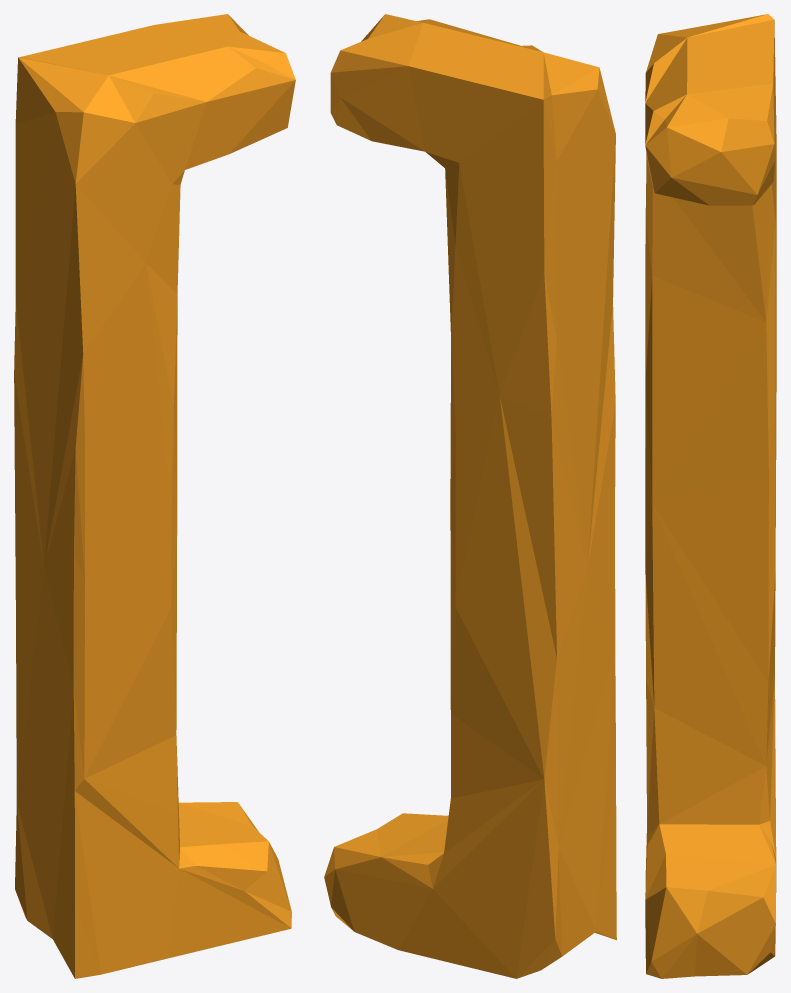
File: SM_Icon_Letter_Bracket_01.fbx
3 renders of one model, left to right at view 1: azimuth 30°, elevation 25°; view 2: azimuth 150°, elevation 25°; view 3: azimuth 270°, elevation 25°, orthographic. The views are drawn at different scales.
Visible parts, largest first — view 1: SM_Icon_Letter_Bracket_01; view 2: SM_Icon_Letter_Bracket_01; view 3: SM_Icon_Letter_Bracket_01.
Part boxes in pixels (x1,y1,x2,y2): SM_Icon_Letter_Bracket_01: (14,14,295,978); SM_Icon_Letter_Bracket_01: (324,14,616,978); SM_Icon_Letter_Bracket_01: (645,14,776,978).
Size of the model in its own units: 20.98 by 77.22 by 10.68.
